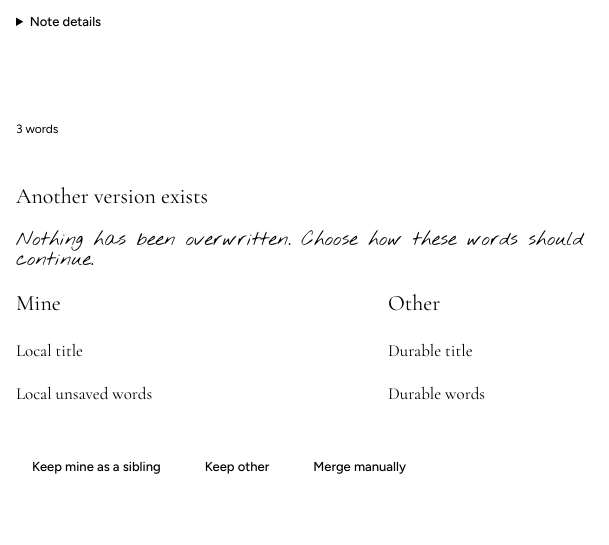
Test: preserves recovery and enables retry when sibling creation fails
(page scrolled)
Click the button "Keep mine as a sibling". click: (96, 467)
box: [16,445,177,489]
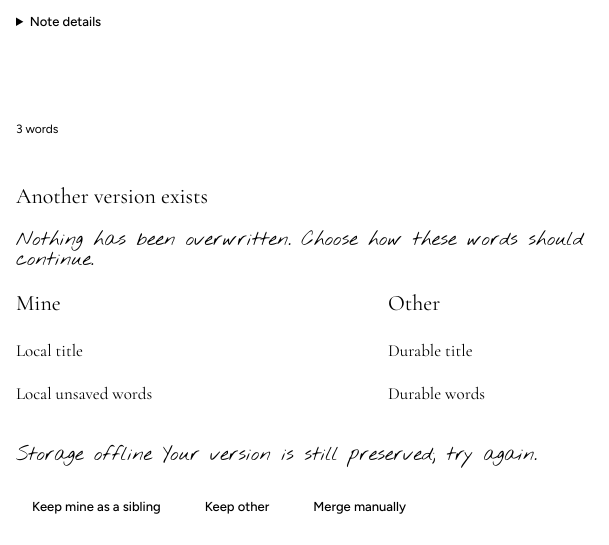
Check: the button "Keep mine as a sibling" is enabled, box [16,485,177,529]
Check: the text "Storage offline Your version is still preserved; try again." is shown, box [16,445,592,465]
